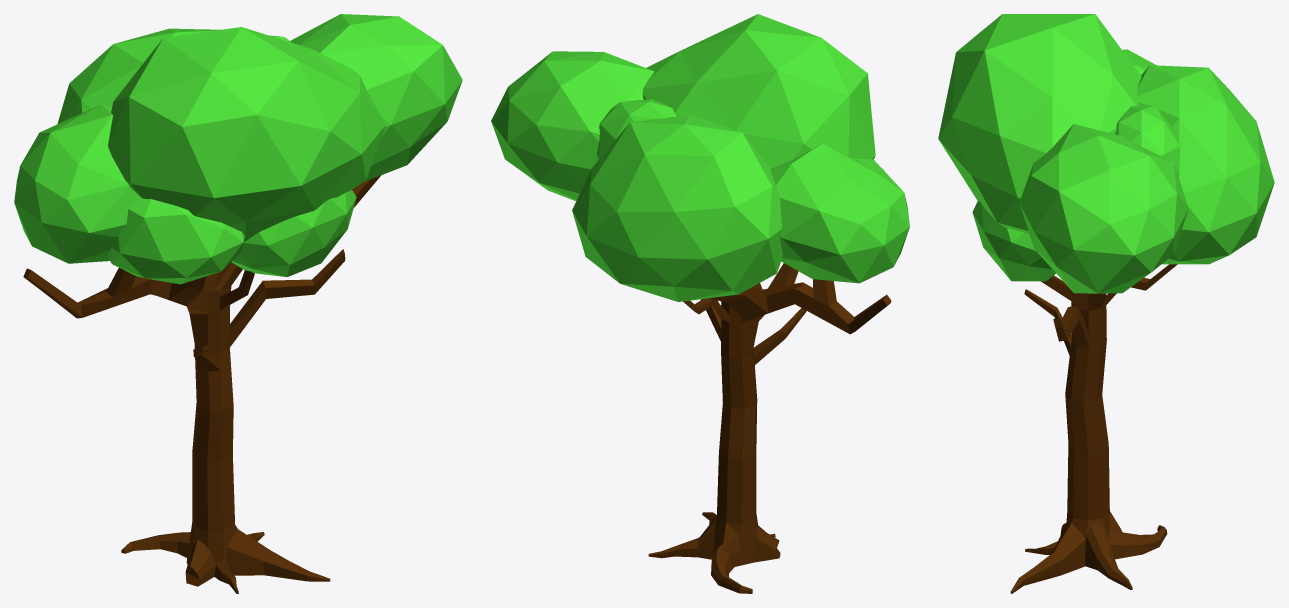
Rendered from T_ancienttree2.fbx.
3 views of the same model, side by side, from view 1: azimuth 30°, elevation 25°; view 2: azimuth 150°, elevation 25°; view 3: azimuth 270°, elevation 25° (orthographic). The views are drawn at different scales.
Parts seen in each view (by area): view 1: Icosphere, Cylinder; view 2: Icosphere, Cylinder; view 3: Icosphere, Cylinder.
Part boxes in pixels (box(x1,y1,x2,y2)): Icosphere: box(14, 14, 462, 284); Cylinder: box(23, 175, 380, 593); Icosphere: box(491, 14, 909, 301); Cylinder: box(648, 263, 891, 593); Icosphere: box(938, 14, 1274, 293); Cylinder: box(1010, 264, 1177, 593).
Bounding box in the file's own units: 1986 × 2502 × 1427.
